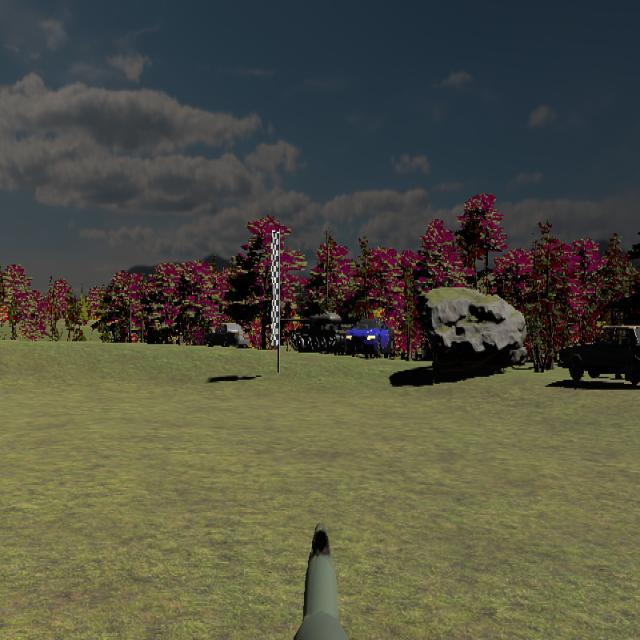Tank: (279, 311, 351, 354)
car: (557, 324, 640, 385), (346, 318, 394, 358), (204, 322, 249, 349)
